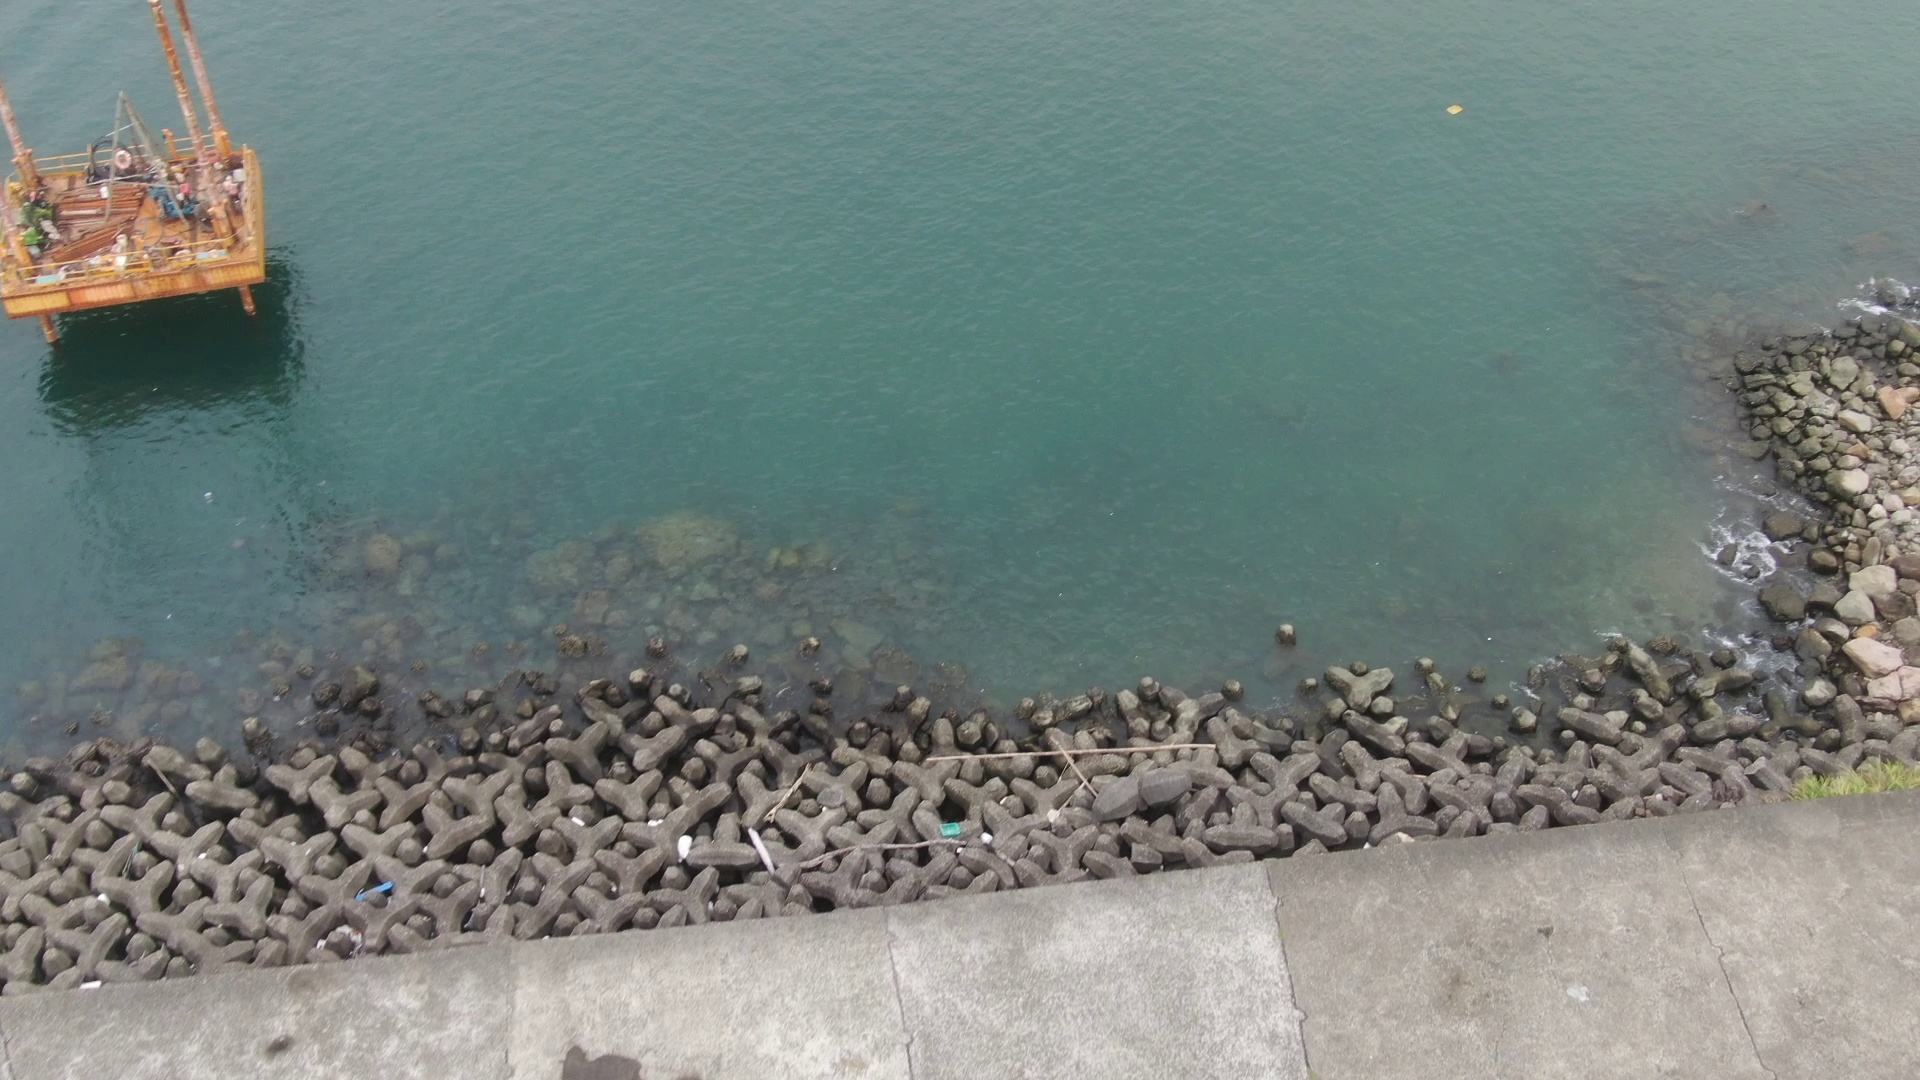garbage: (352, 865, 400, 905), (666, 822, 707, 866), (934, 811, 973, 852), (1443, 95, 1468, 119)
